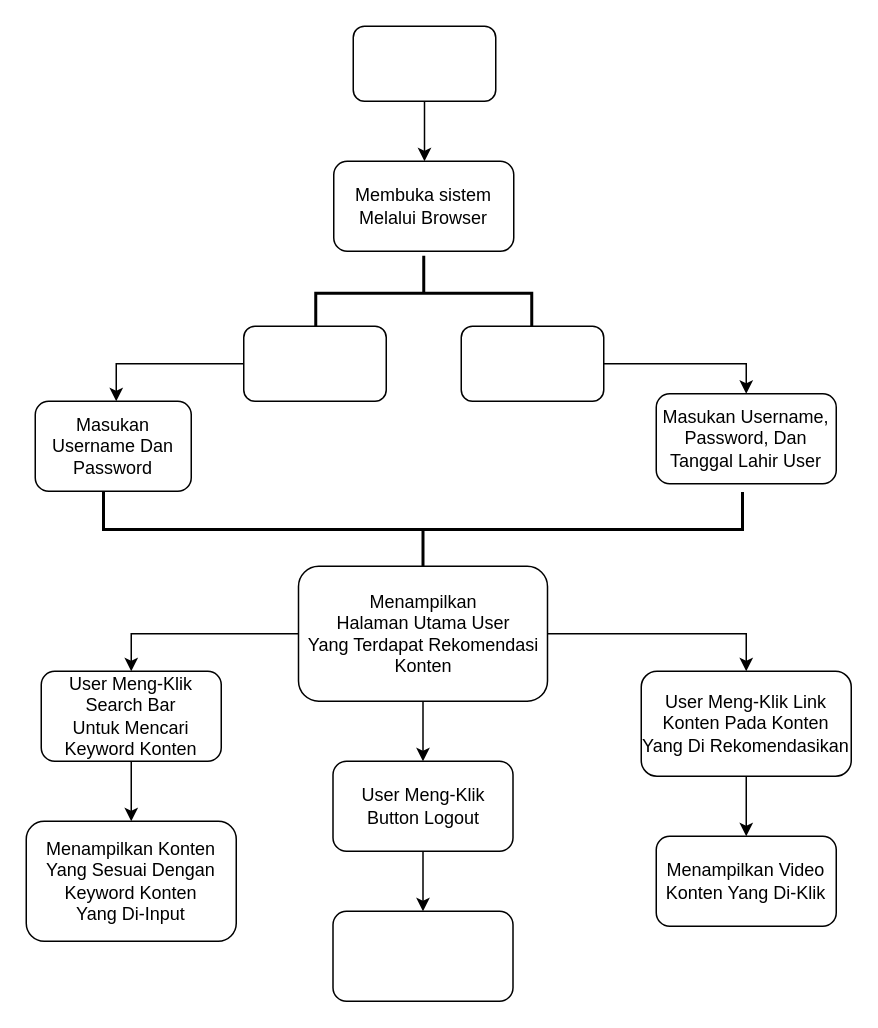
This 878x1028 diagram has some shape labels left out. Here are the shapes that lost their labels. From the top down, the box of each, then its label:
(352, 25, 496, 101): User
(242, 325, 386, 401): Melakukan proses Login
(460, 325, 604, 401): Melakukan proses Register
(332, 910, 513, 1001): Menampilkan Menu Halaman Awal Website
